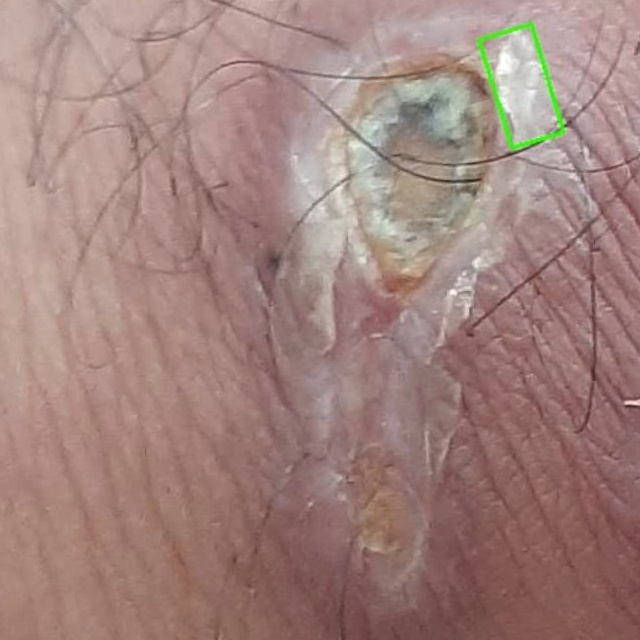Contact Dermatitis: (479, 24, 564, 148)
